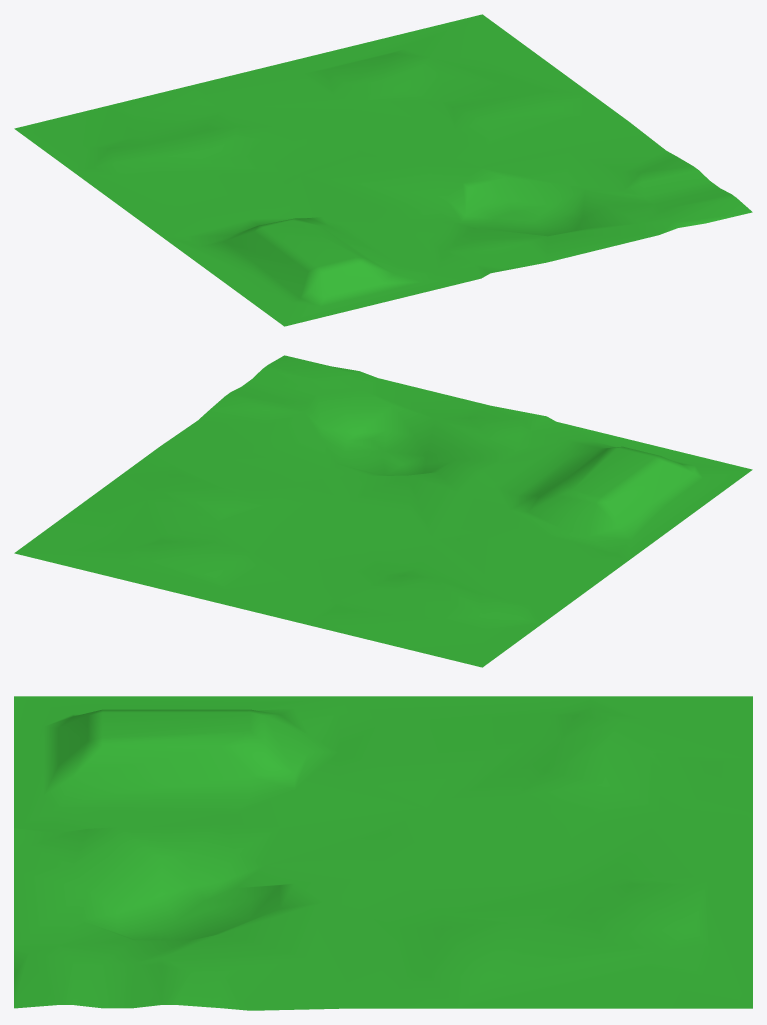
Rendered from Ground_01.fbx.
3 views of the same model, one above another, from view 1: azimuth 30°, elevation 25°; view 2: azimuth 150°, elevation 25°; view 3: azimuth 270°, elevation 25° (orthographic). The views are drawn at different scales.
Visible parts, largest first — view 1: Ground; view 2: Ground; view 3: Ground.
Part boxes in pixels (x1=…): Ground: x1=14, y1=14, x2=752, y2=326; Ground: x1=14, y1=355, x2=752, y2=667; Ground: x1=14, y1=696, x2=752, y2=1010.
Bounding box in the file's own units: 100 × 6.86 × 100.
